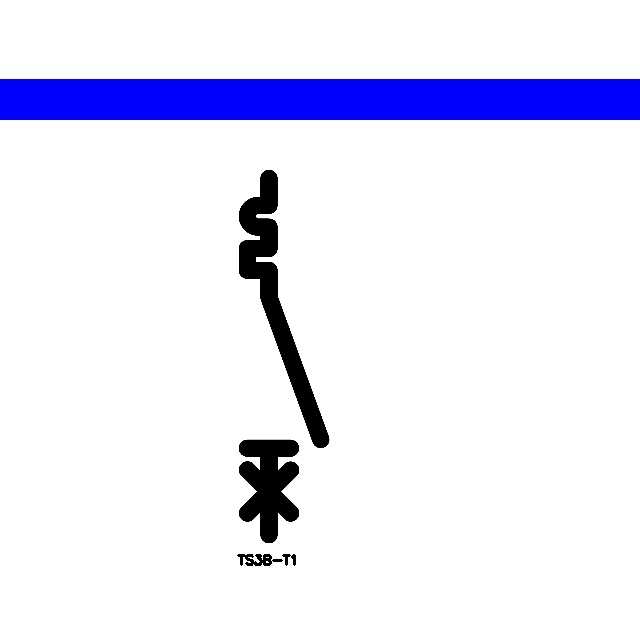interruptor_termomagnetico: (238, 169, 329, 544)
